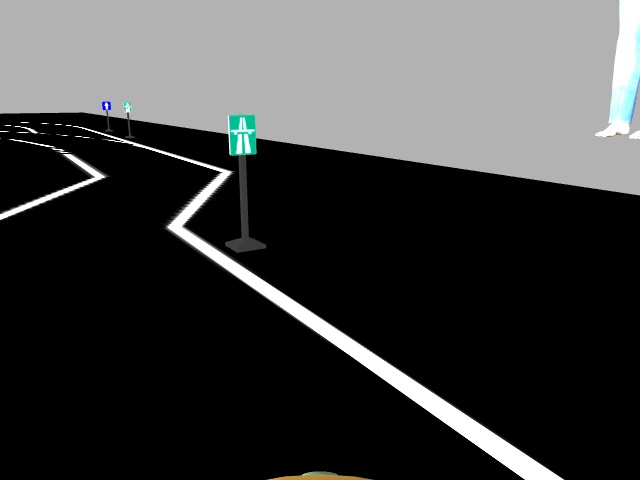HighwayEntrance: (227, 113, 257, 155)
